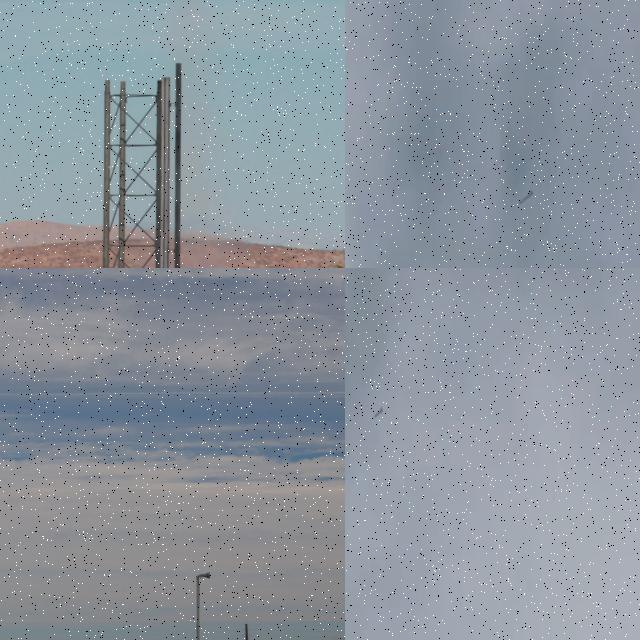Rocket: (519, 190, 534, 204), (373, 405, 383, 419)
